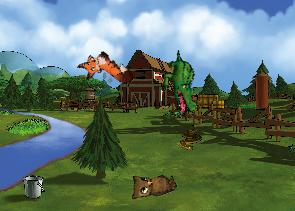crocodile: (150, 49, 212, 118)
fox: (74, 42, 136, 101)
owl: (125, 162, 178, 204)
